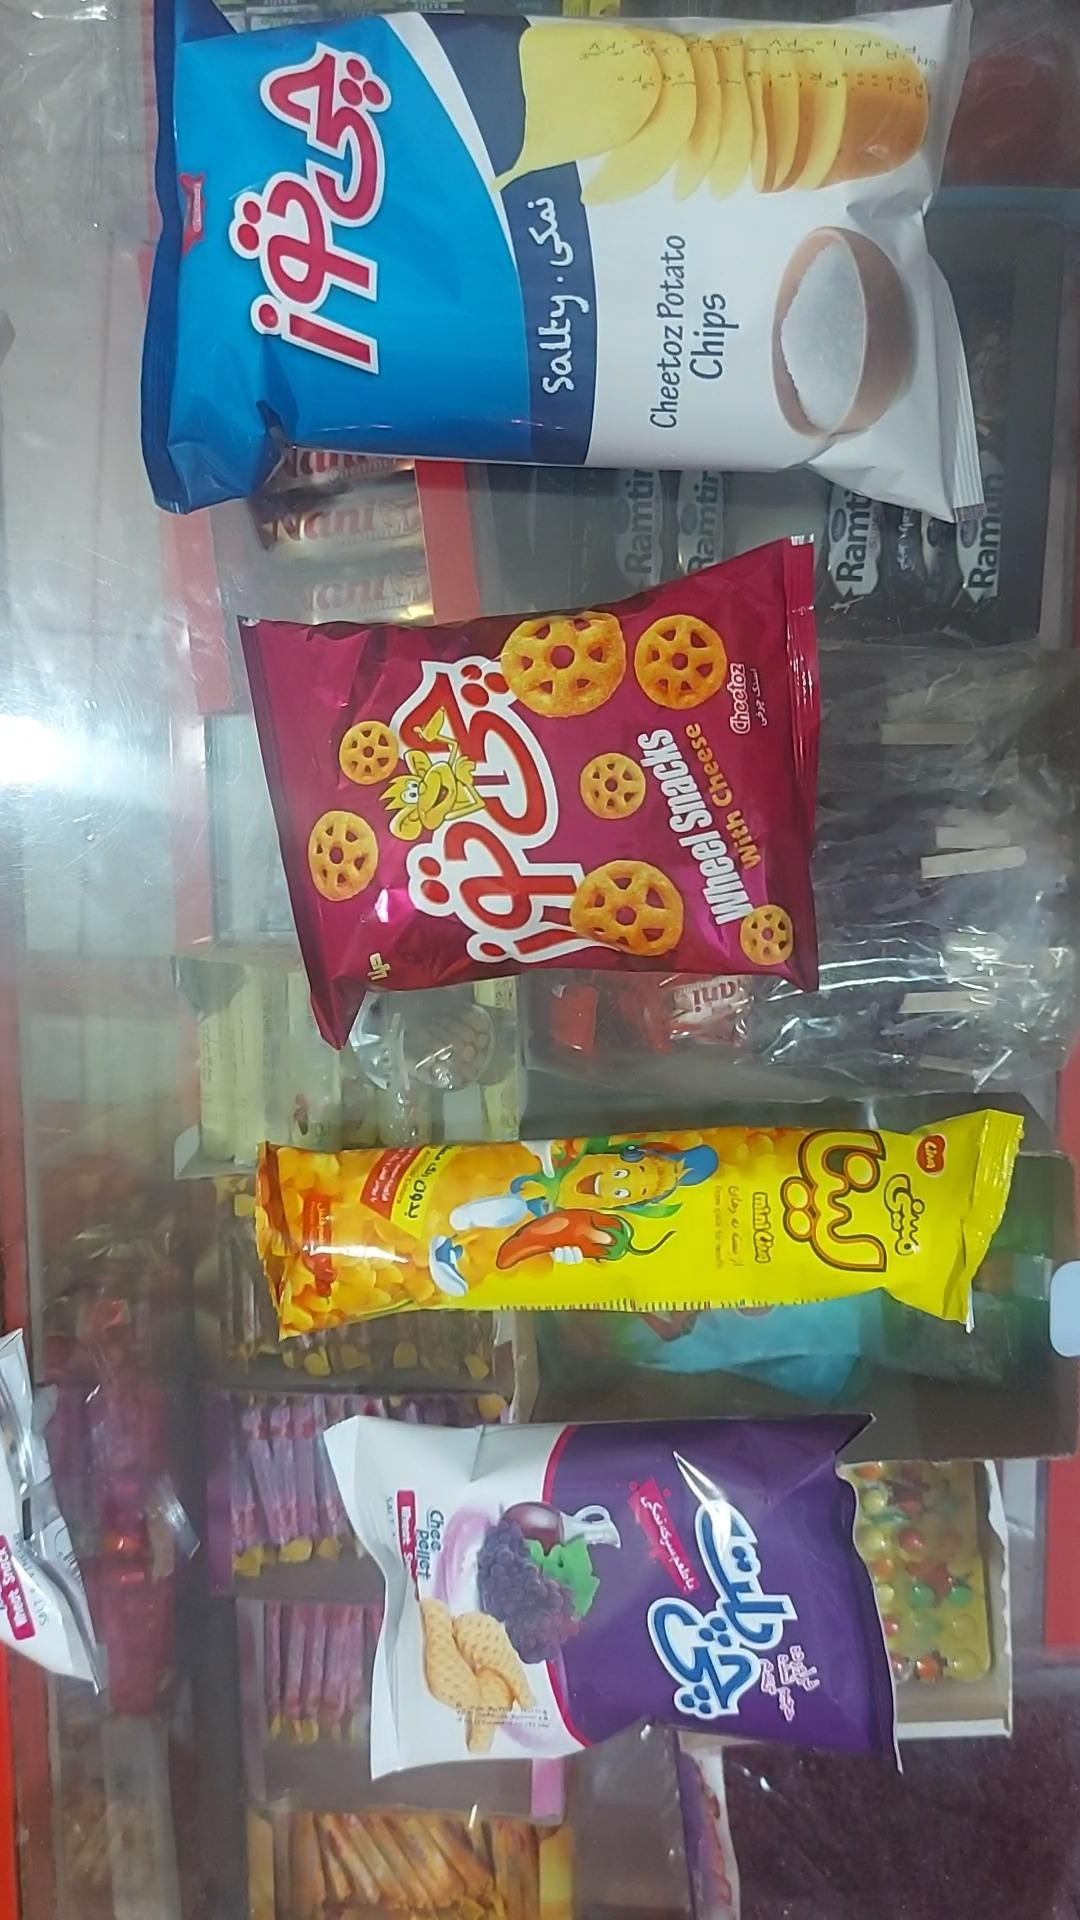Chee pellet vinegar: (318, 1415, 895, 1780)
Cheetoz salty chips: (137, 0, 982, 522)
Cheetoz wheelsnack: (237, 539, 820, 1051)
Mini Lina: (253, 1109, 1027, 1340)
